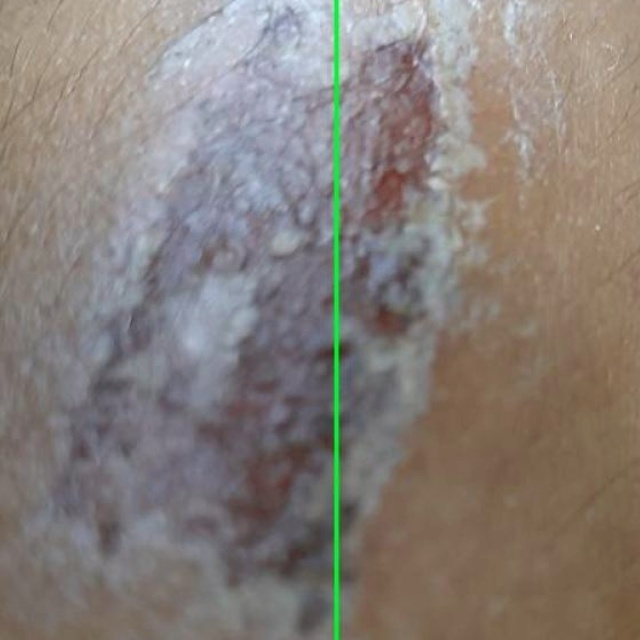Atopic Dermatitis: (336, 0, 639, 639)
